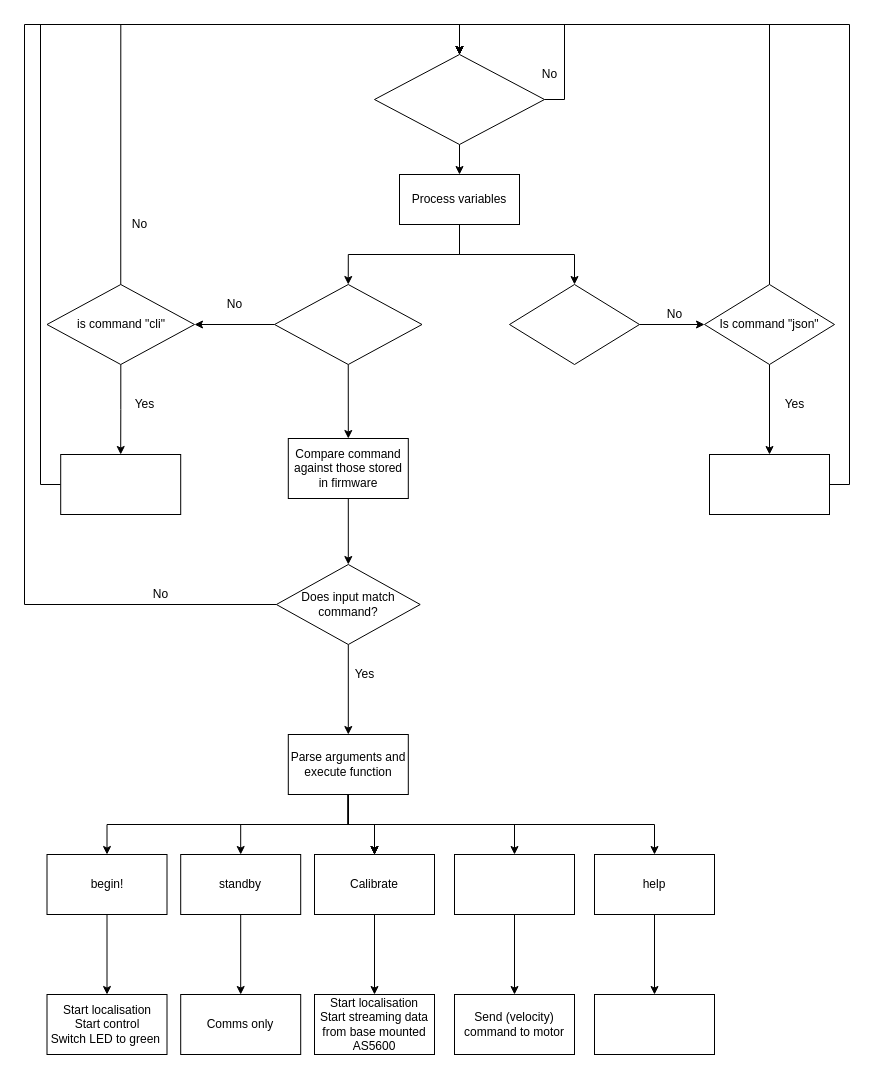
Image size: 875x1072. Some labels were removed from this diagram. The centre of each missing label's shape, as x and y in pixels:
"Activate cli" goes at [120,484].
"Activate json parsing" goes at [769,484].
"is cli active" goes at [348,324].
"is json active" goes at [574,324].
"IsSerialDataAvailable()" goes at [459,99].
"motor" goes at [514,884].
"Print all commands to terminal" goes at [654,1024].
